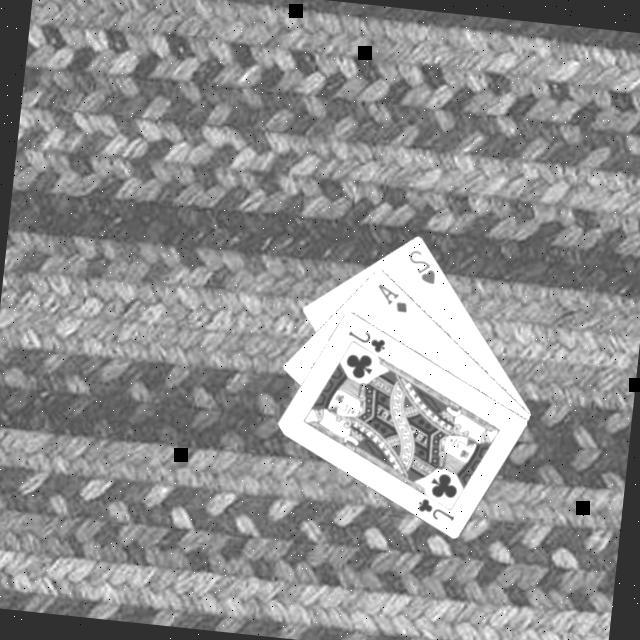2H: (403, 246, 443, 290)
AD: (374, 279, 415, 317)
JC: (344, 326, 391, 358), (415, 495, 461, 525)
